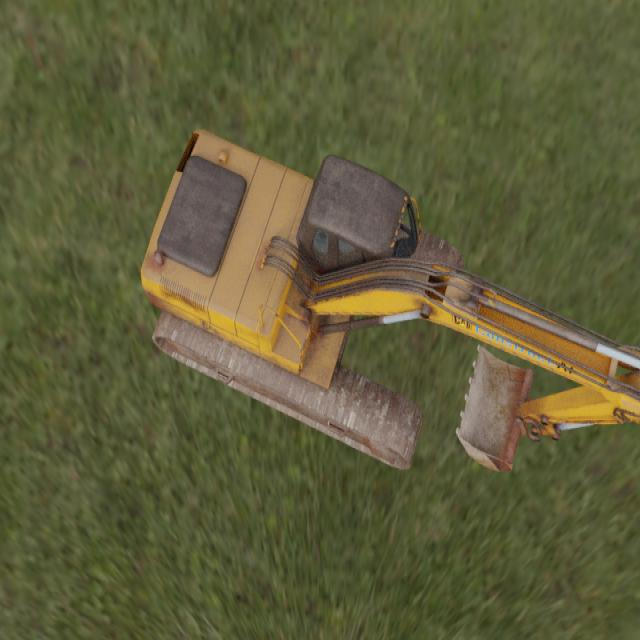excavator: (140, 128, 640, 472)
